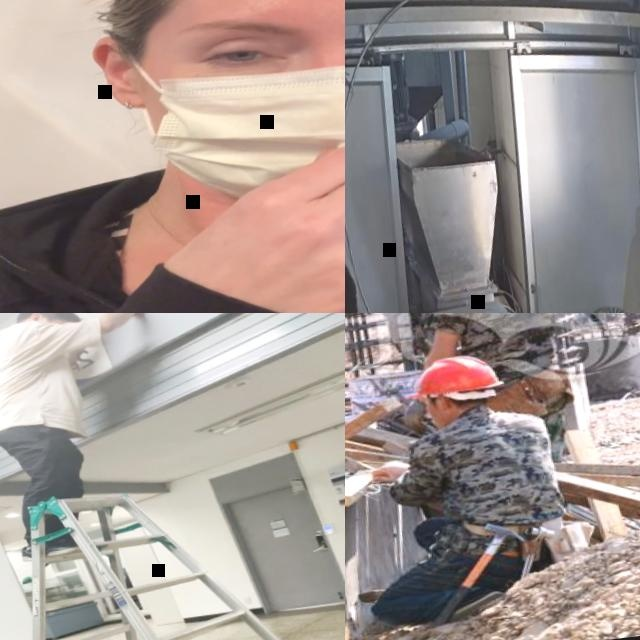Hardhat: (398, 347, 502, 408)
Mask: (129, 0, 345, 210)
NO-Hardhat: (18, 313, 83, 326), (345, 251, 356, 298)
NO-Mask: (427, 406, 448, 429)
NO-Safety Vest: (0, 166, 345, 313), (413, 405, 567, 552), (438, 313, 578, 391), (0, 321, 82, 441), (578, 313, 624, 323)
Person: (0, 0, 345, 313), (345, 345, 586, 636), (0, 313, 164, 565), (407, 313, 579, 457), (345, 236, 480, 313), (563, 313, 623, 334)
